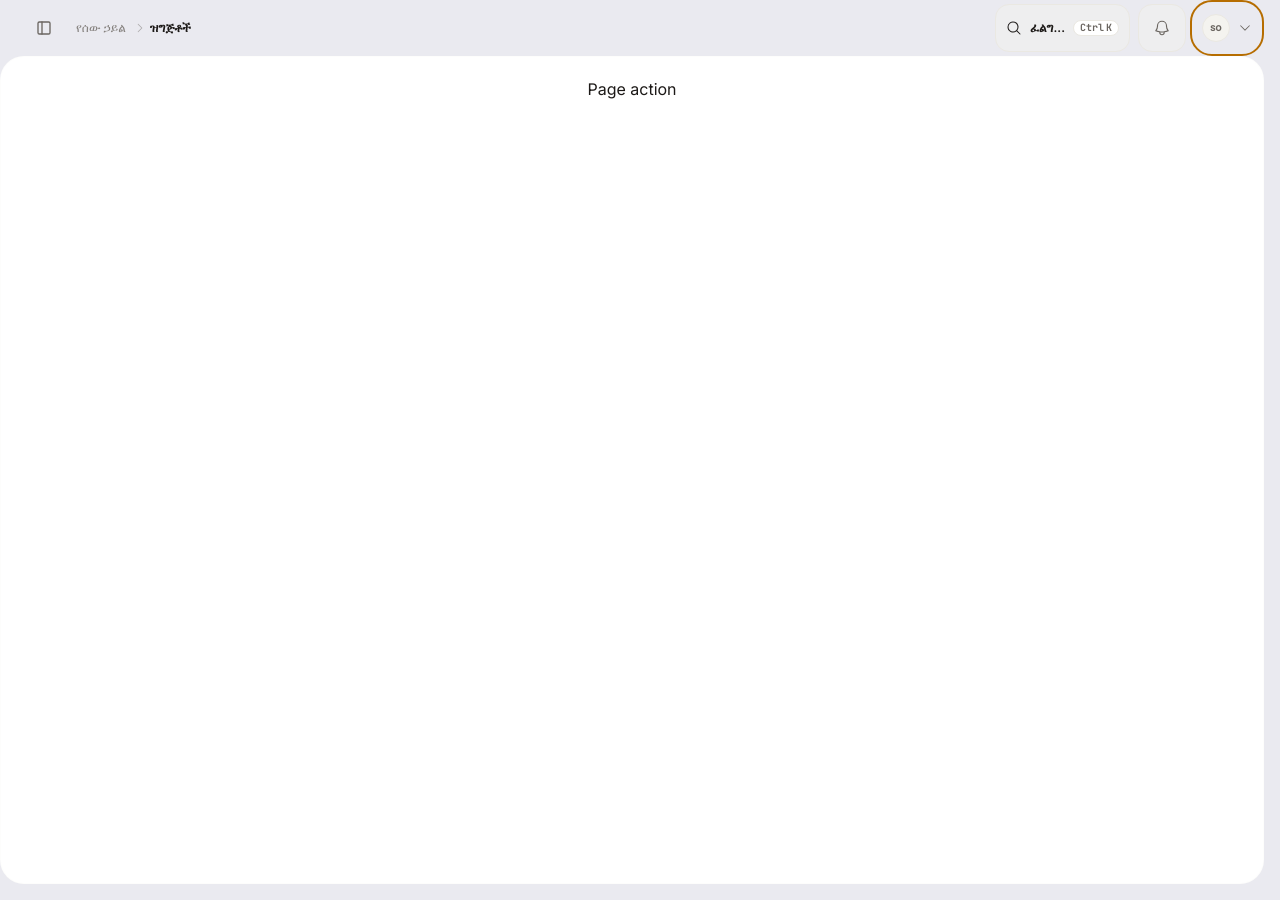
Scenario: Dream shared header controls › uses saved am names and preserves current-permission profile settings
Expected: the button "ፈልግ... Ctrl K" is shown, [995,4,1130,52]
Expected: the navigation bar named "የገጽ መንገድ" is shown, [76,20,191,35]
Click the button "SO" at [1227, 28], box [1194,4,1260,52]
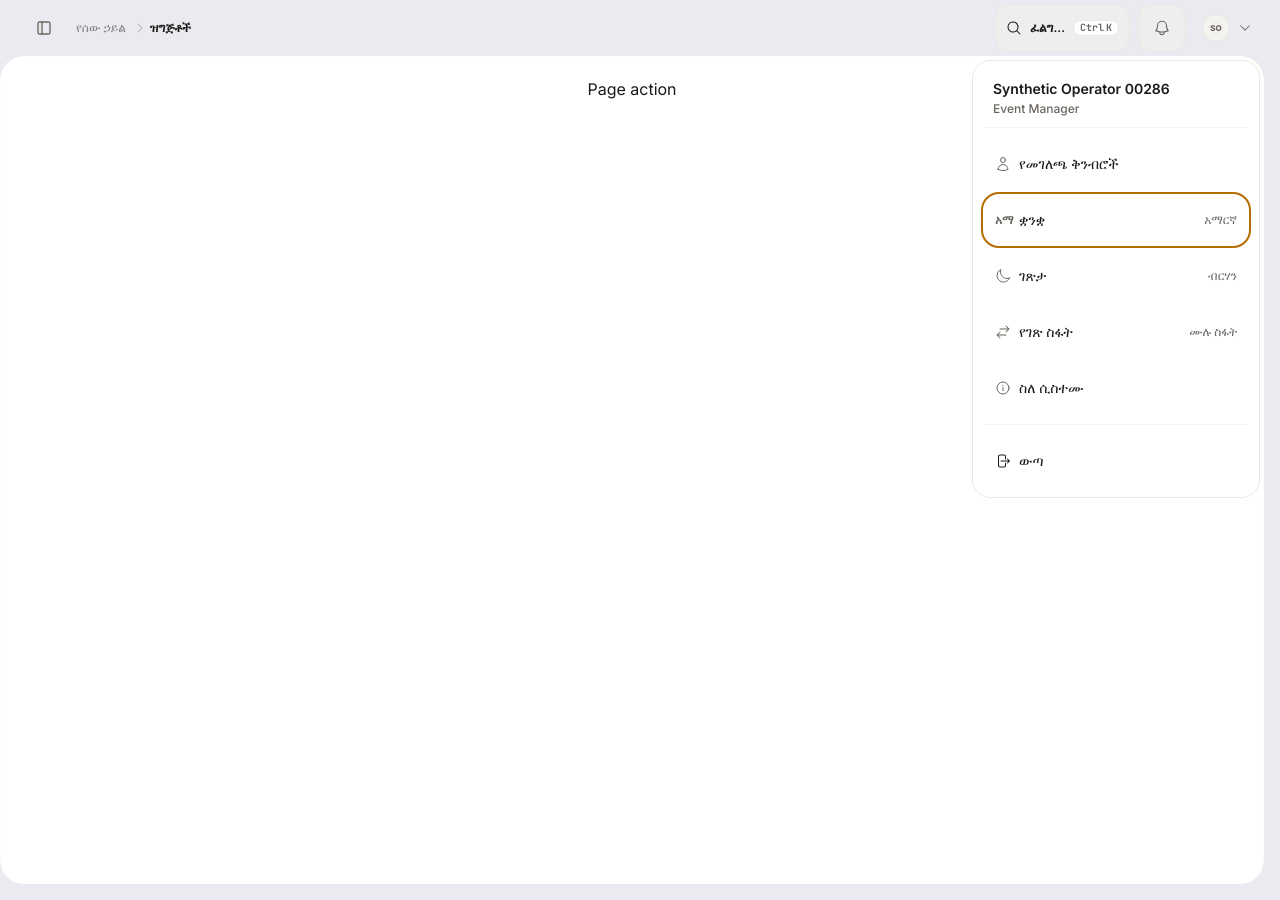
Now the text "Synthetic Operator 00286" is shown, box [993,80,1170,97]
Now the text "Event Manager" is shown, box [993,101,1079,116]
Now the button "ገጽታ ብርሃን" is shown, box [985,252,1247,300]
Press Escape in the button "አማ ቋንቋ አማርኛ", box [985,196,1247,244]
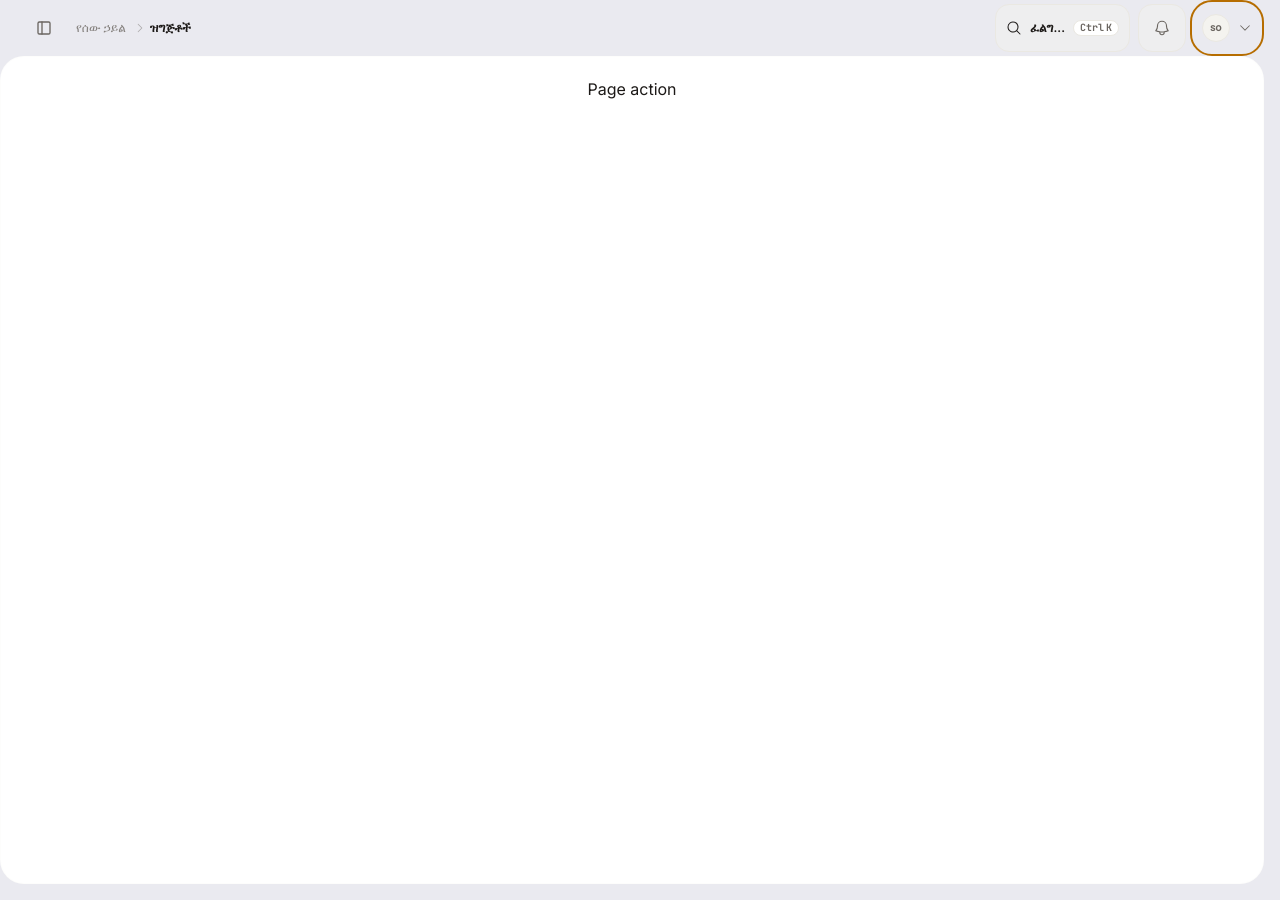
Now the dialog is gone
